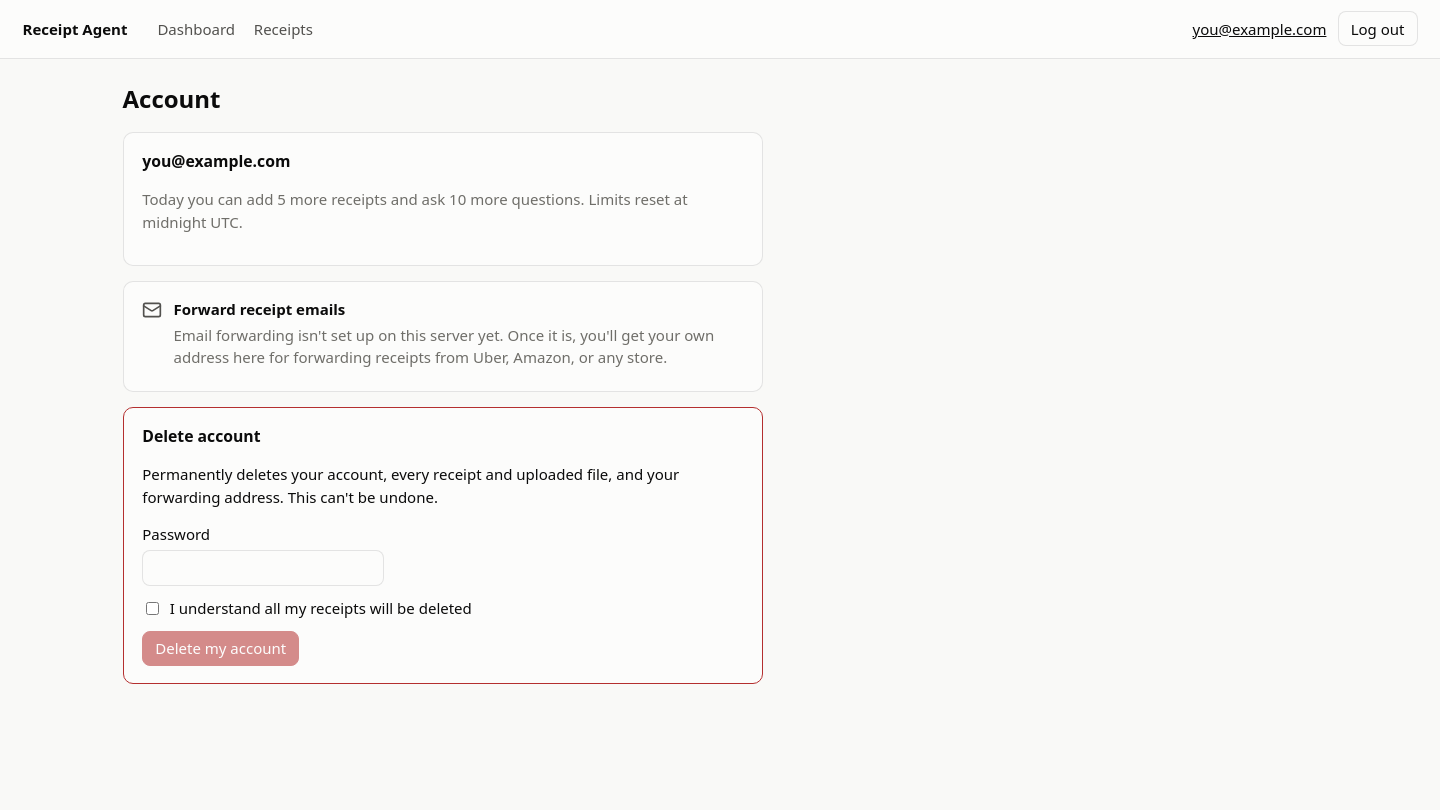
it: shows why a deletion was refused
The image size is (1440, 810).
Type "wrong" into the password field labelled "Password". click: (263, 568)
box: [142, 550, 384, 586]
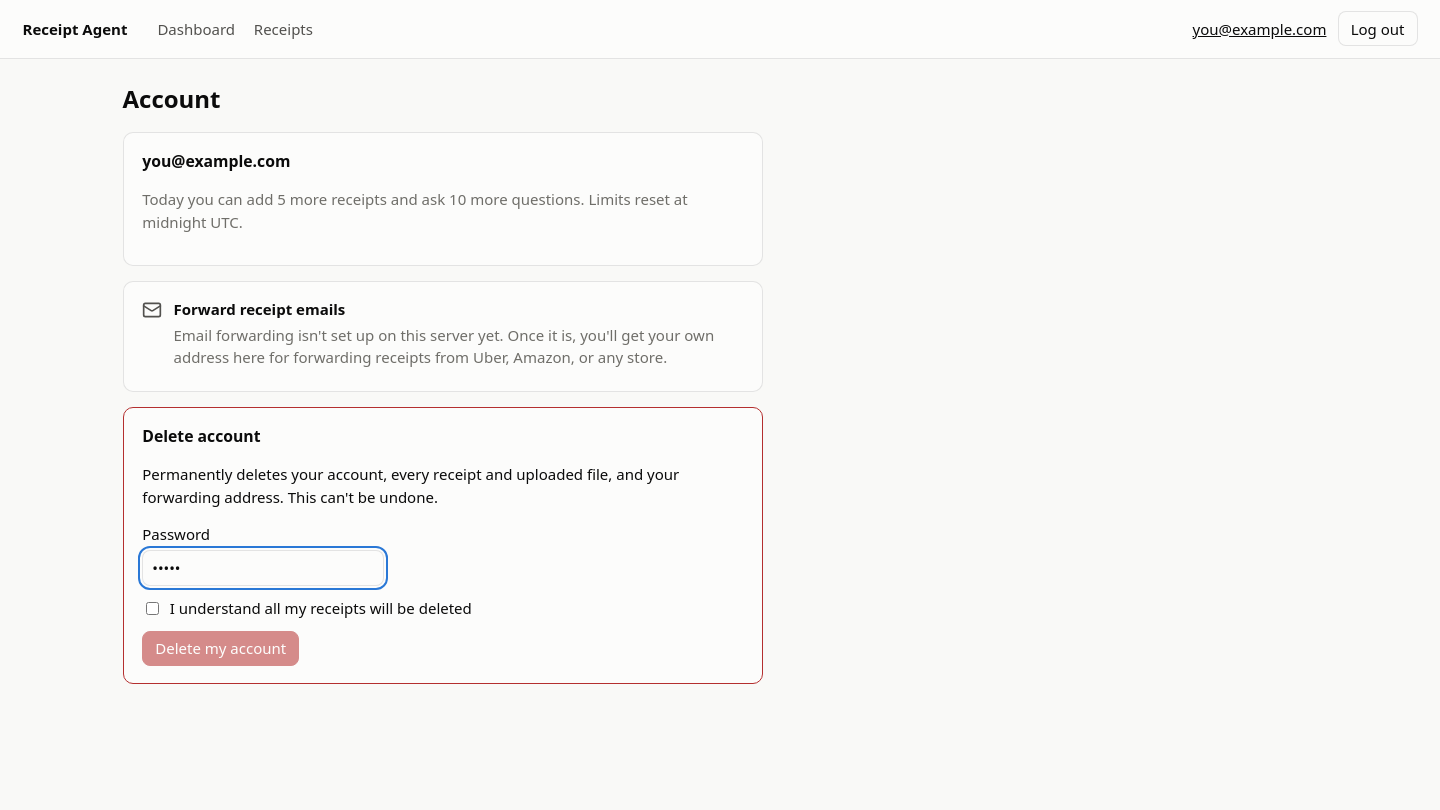
Click the checkbox labelled "I understand all my receipts will be deleted". click: (153, 608)
box: [146, 602, 159, 615]
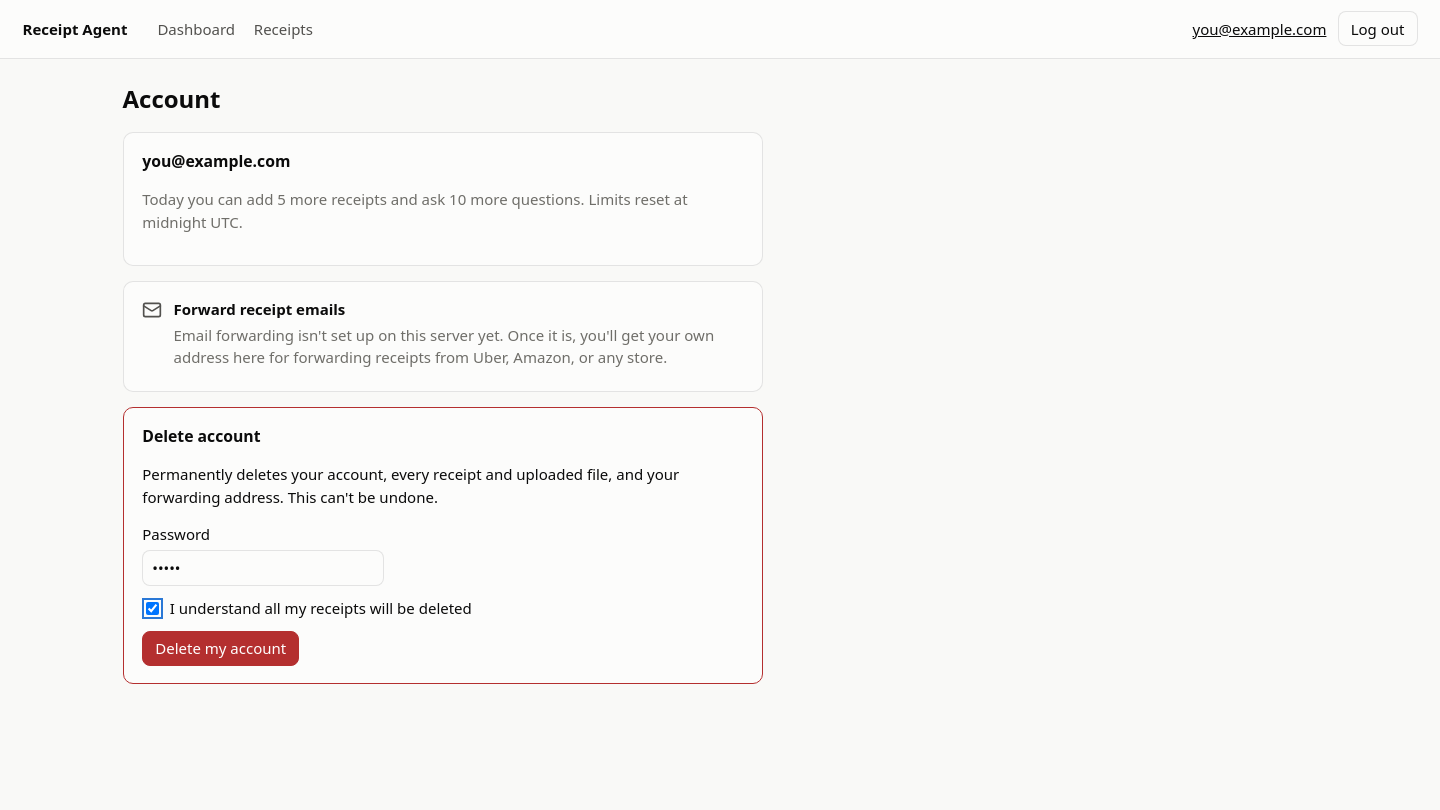
Click the button "Delete my account". click: (221, 648)
box: [142, 631, 299, 666]
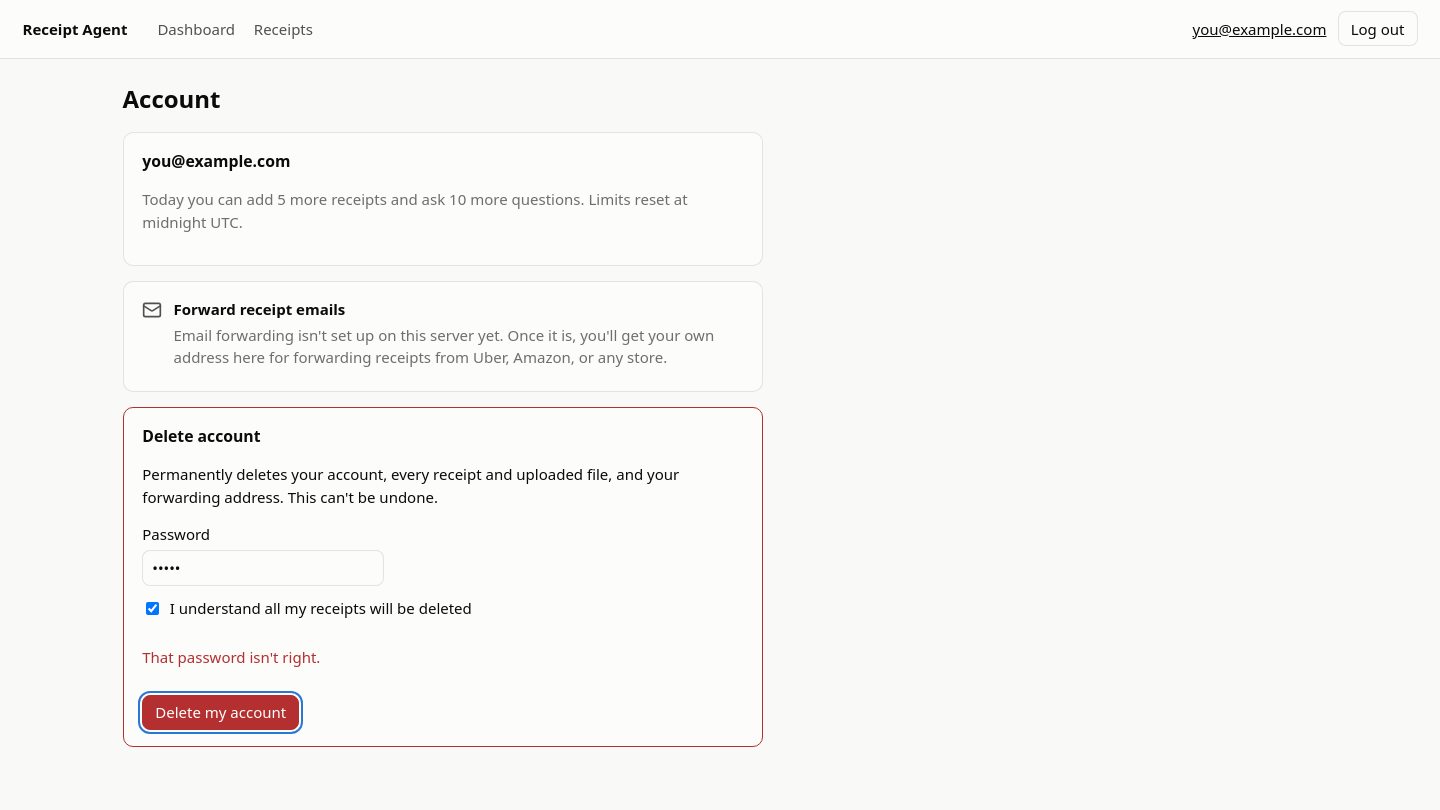
expect the heading "Account" is shown: met, box [122, 82, 220, 115]
expect the text "That password isn't right." is shown: met, box [142, 646, 320, 668]
